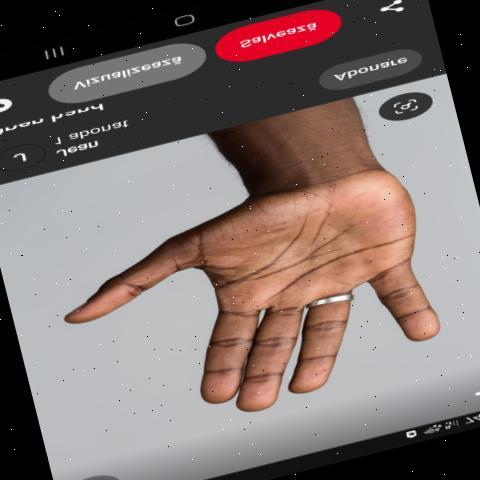Hands: (49, 163, 463, 453)
